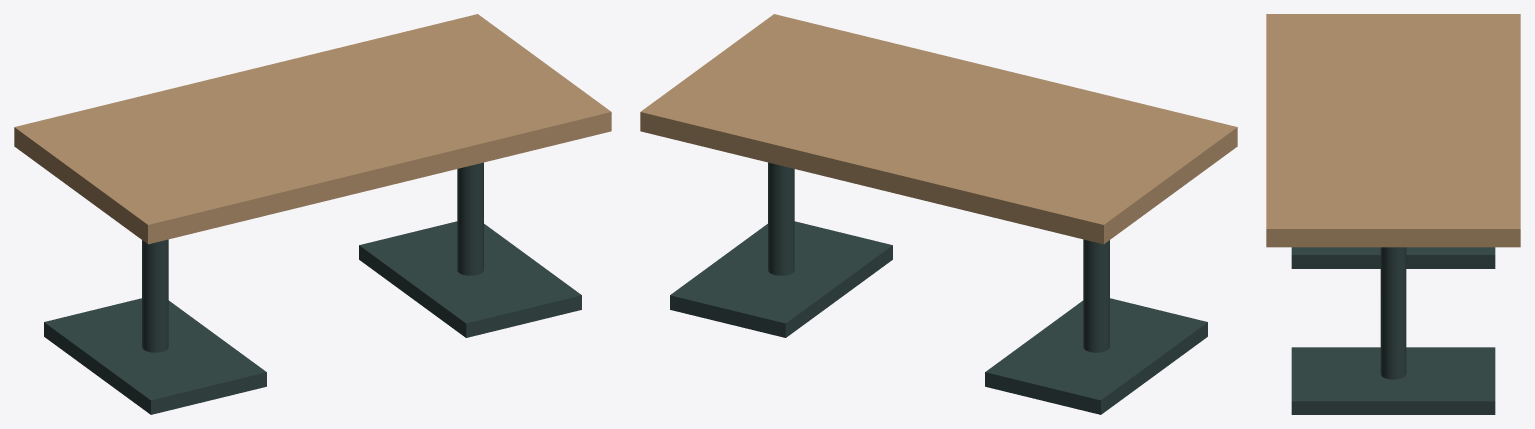
3 renders of one model, left to right at view 1: azimuth 30°, elevation 25°; view 2: azimuth 150°, elevation 25°; view 3: azimuth 270°, elevation 25°, orthographic. The views are drawn at different scales.
Parts seen in each view (by area): view 1: desktop, base0.68, base-0.68, post-0.68, post0.68; view 2: desktop, base0.68, base-0.68, post-0.68, post0.68; view 3: desktop, base0.68, base-0.68, post0.68.
Boxes of the visible parts, box(x1,y1,x2,y2) form: desktop: box(14, 14, 611, 244); base0.68: box(359, 221, 581, 337); base-0.68: box(44, 298, 266, 414); post-0.68: box(142, 239, 168, 352); post0.68: box(457, 162, 483, 275); desktop: box(640, 14, 1237, 244); base0.68: box(670, 221, 892, 337); base-0.68: box(985, 298, 1207, 414); post-0.68: box(1083, 239, 1109, 352); post0.68: box(768, 162, 794, 275); desktop: box(1266, 14, 1520, 247); base0.68: box(1291, 347, 1495, 414); base-0.68: box(1291, 247, 1495, 268); post0.68: box(1380, 247, 1406, 379).
Bounding box in the file's own units: 2 × 0.84 × 1.
